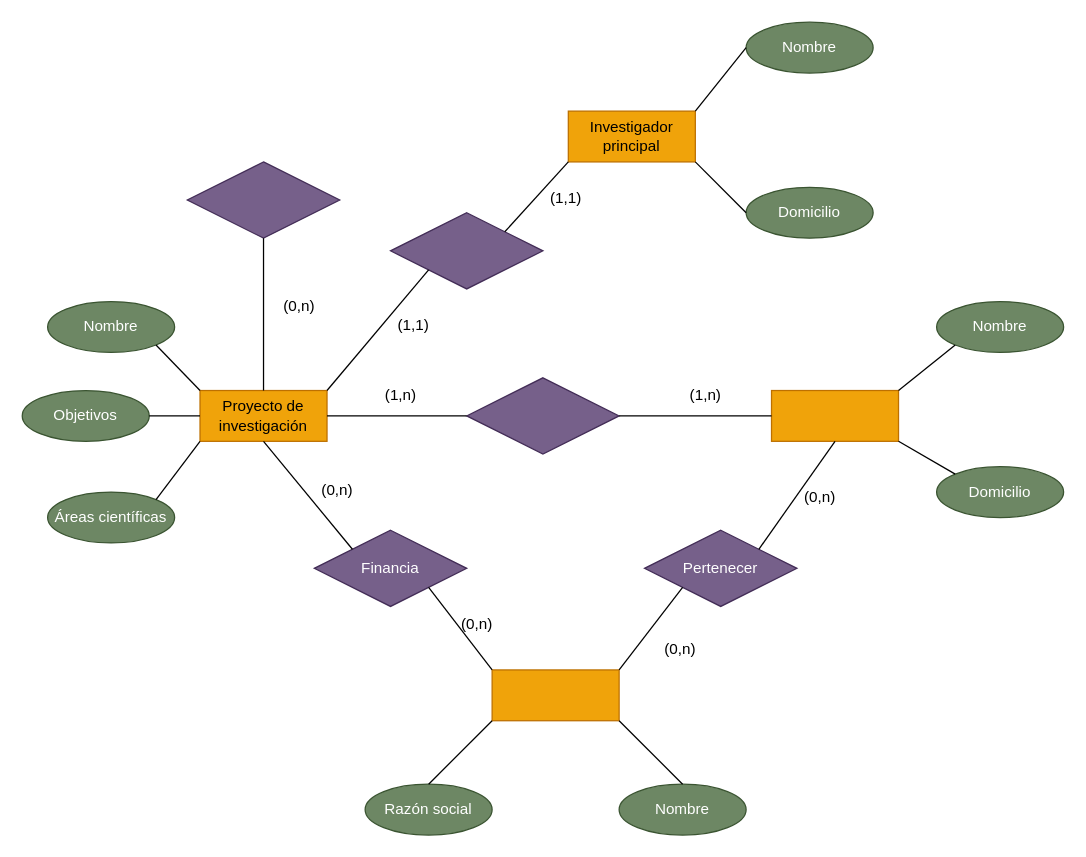
This 1086x857 diagram has some shape labels left out. The shapes that lost their labels are listed below. From the top down, each one's box as (x1, y1, x2, y2) in pixels, then its label:
(186, 161, 340, 238): Complejos
(389, 211, 543, 289): Dirigir
(465, 377, 619, 454): Participar
(770, 389, 899, 441): Investigador
(491, 669, 619, 721): Entidad colaboradora
